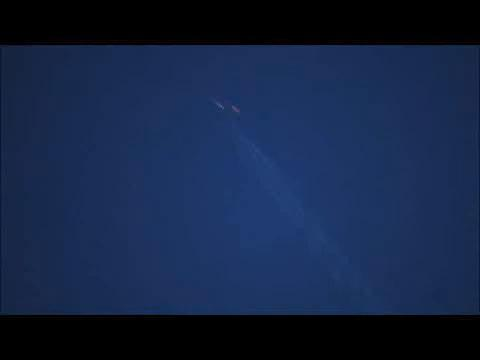Plane: (200, 90, 289, 186)
